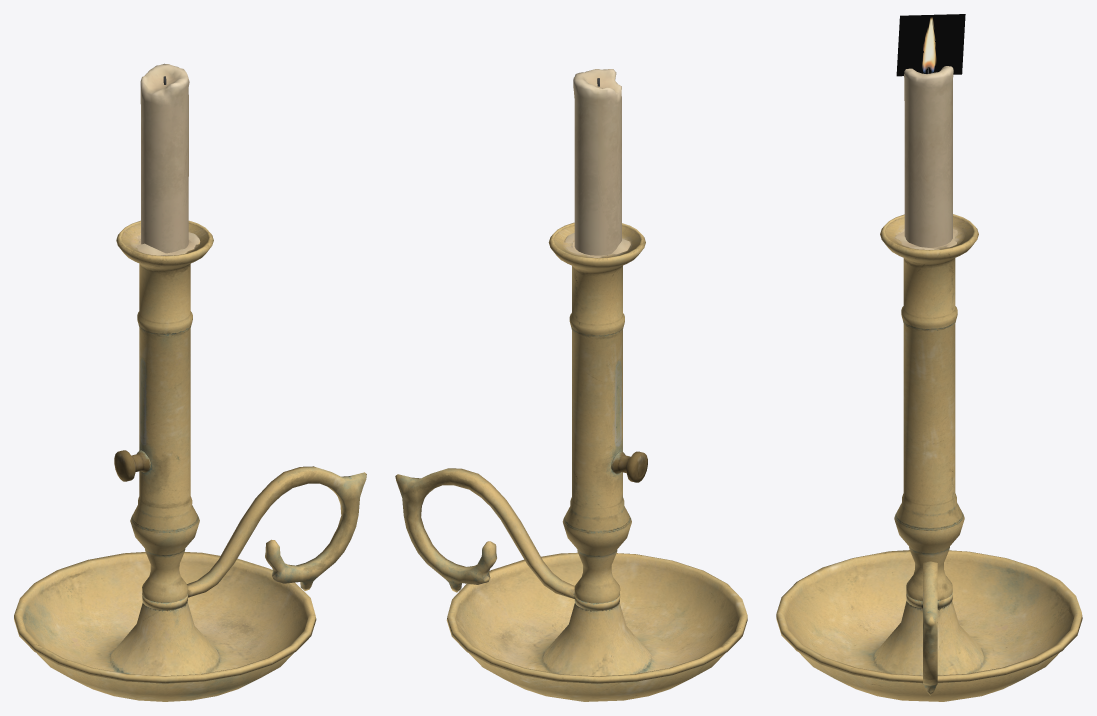
Rendered from obj_antique_candle_holder_cce3a9.glb.
3 renders of one model, left to right at view 1: azimuth 30°, elevation 25°; view 2: azimuth 150°, elevation 25°; view 3: azimuth 270°, elevation 25°, orthographic.
Parts seen in each view (by area): view 1: obj_antique_candle_holder_cce3a9; view 2: obj_antique_candle_holder_cce3a9; view 3: obj_antique_candle_holder_cce3a9.
Boxes of the visible parts, x1,y1,x2,y2 form: obj_antique_candle_holder_cce3a9: (14,63,366,701); obj_antique_candle_holder_cce3a9: (395,69,747,701); obj_antique_candle_holder_cce3a9: (776,14,1082,701).
Size of the model in its own units: 0.1351 by 0.25 by 0.1062.
3 materials, 3 textured.
